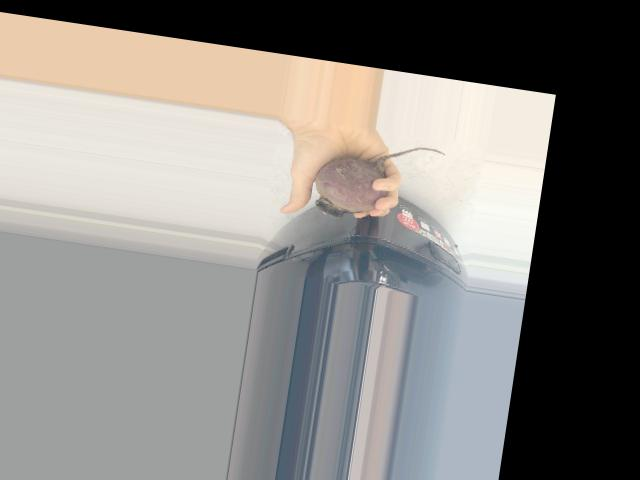beet: (311, 131, 446, 230)
